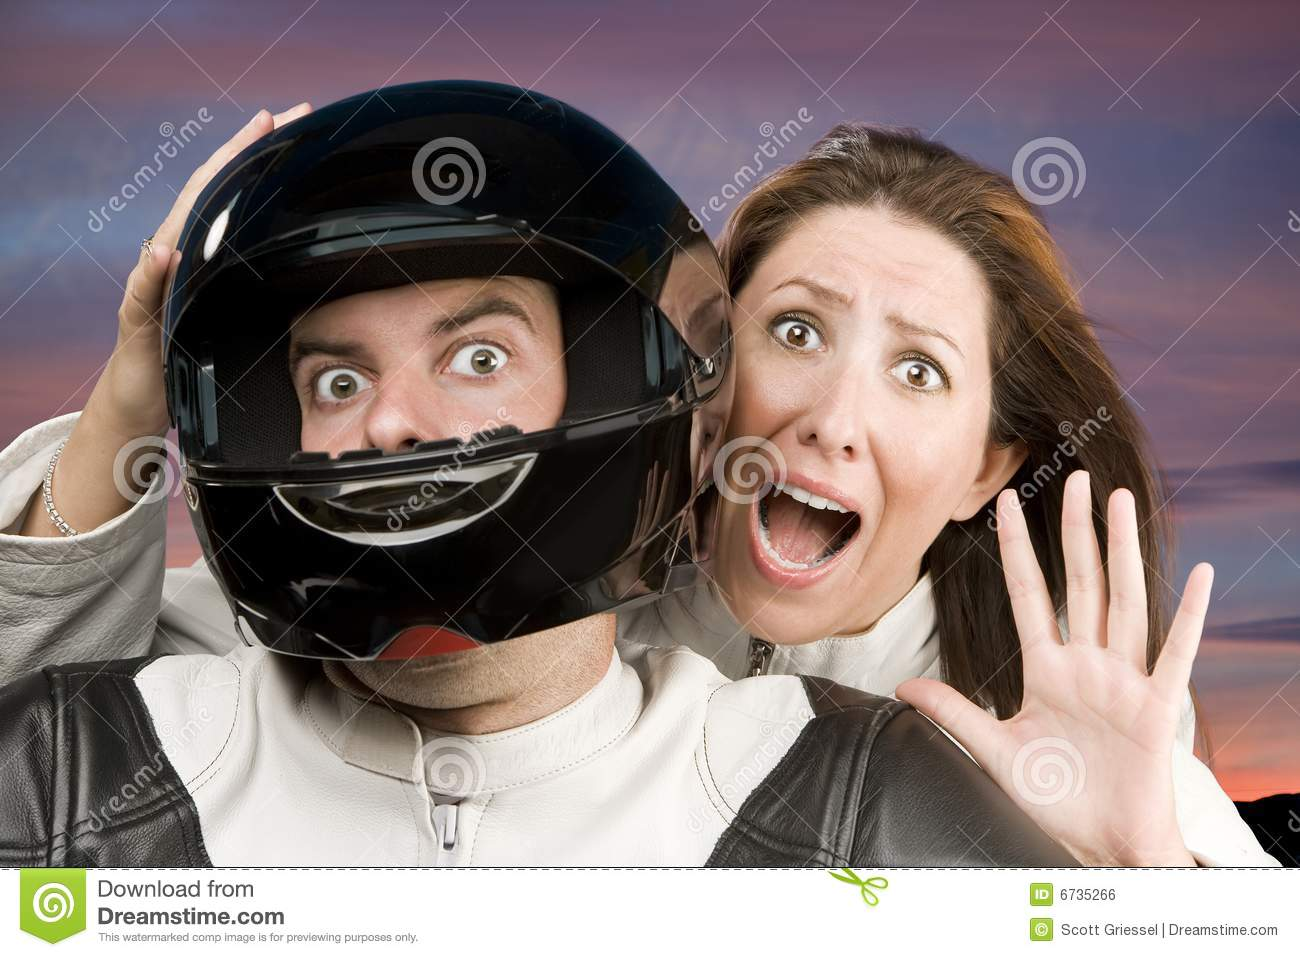helmet: (172, 98, 716, 627)
